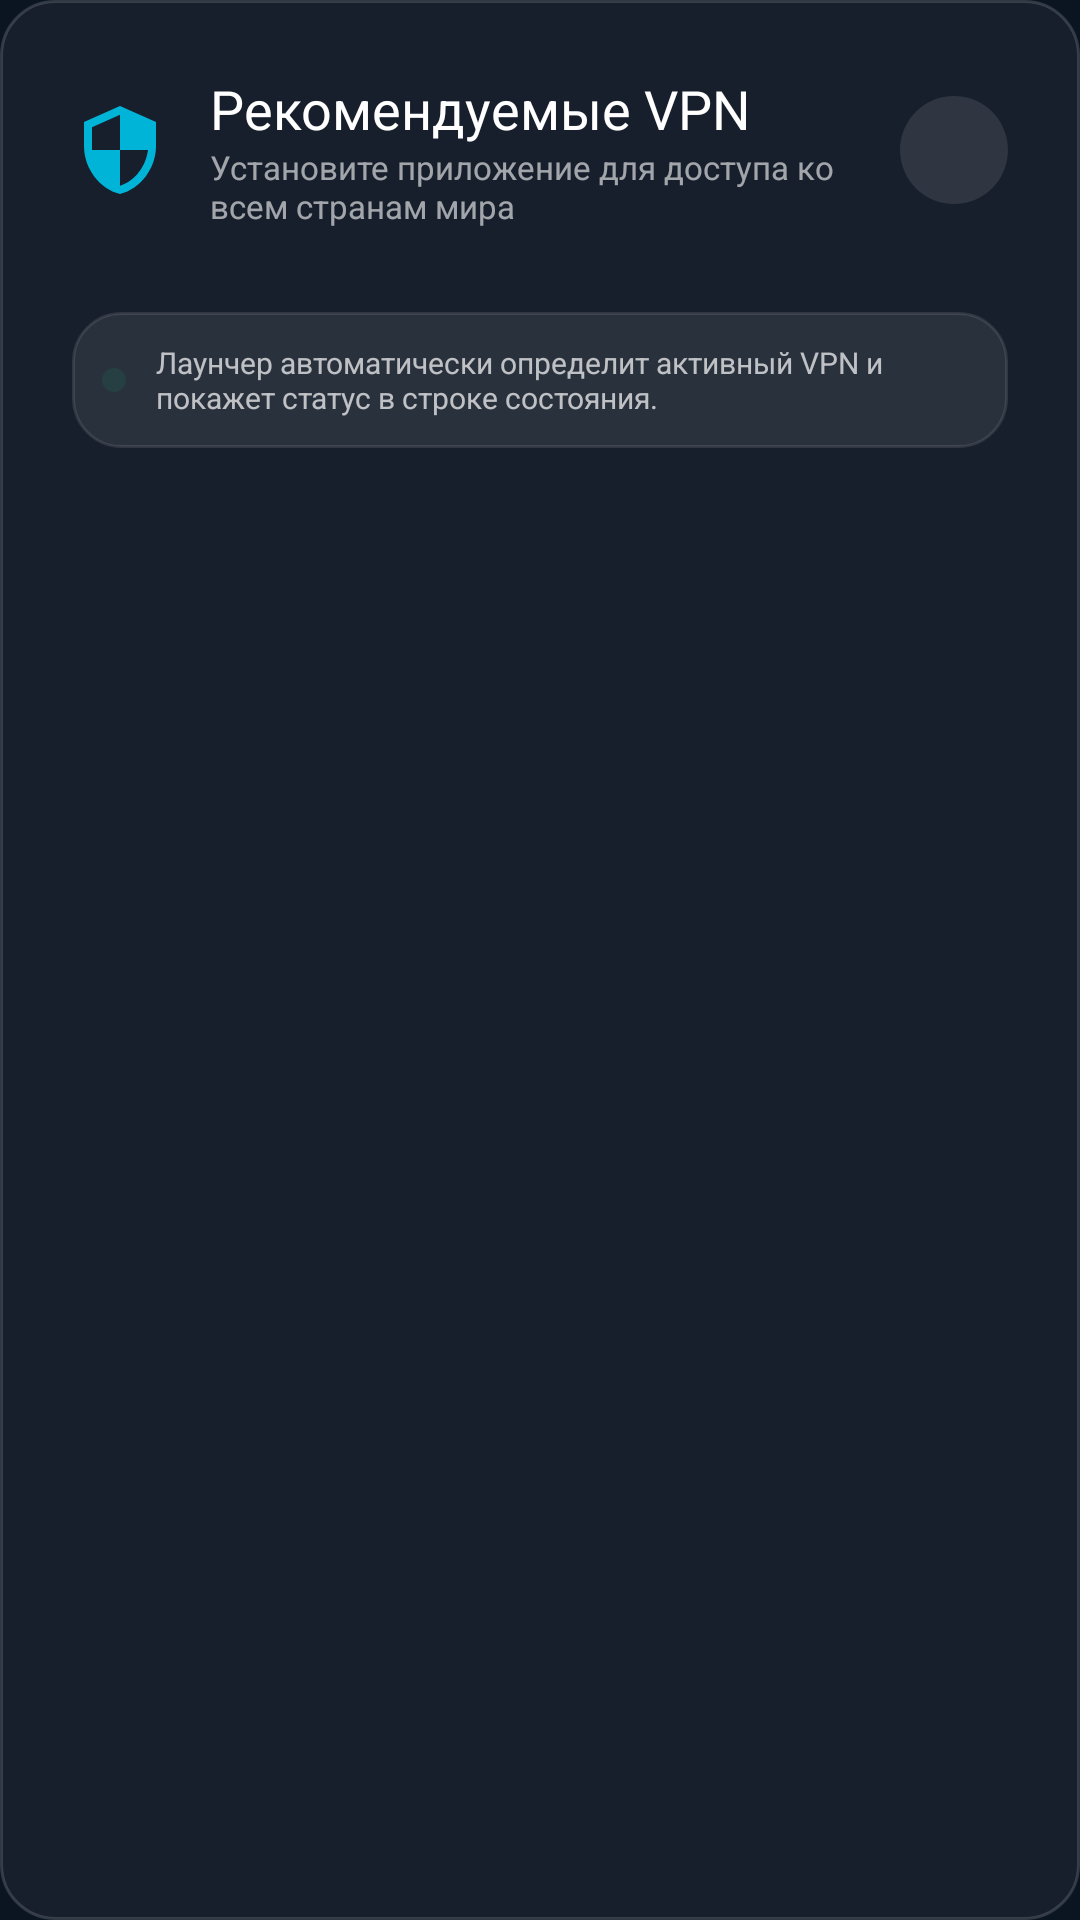

Screen size 1080 x 1920. Icon name, then its center in pixels as (x=x, y=y):
shield: (x=120, y=150)
